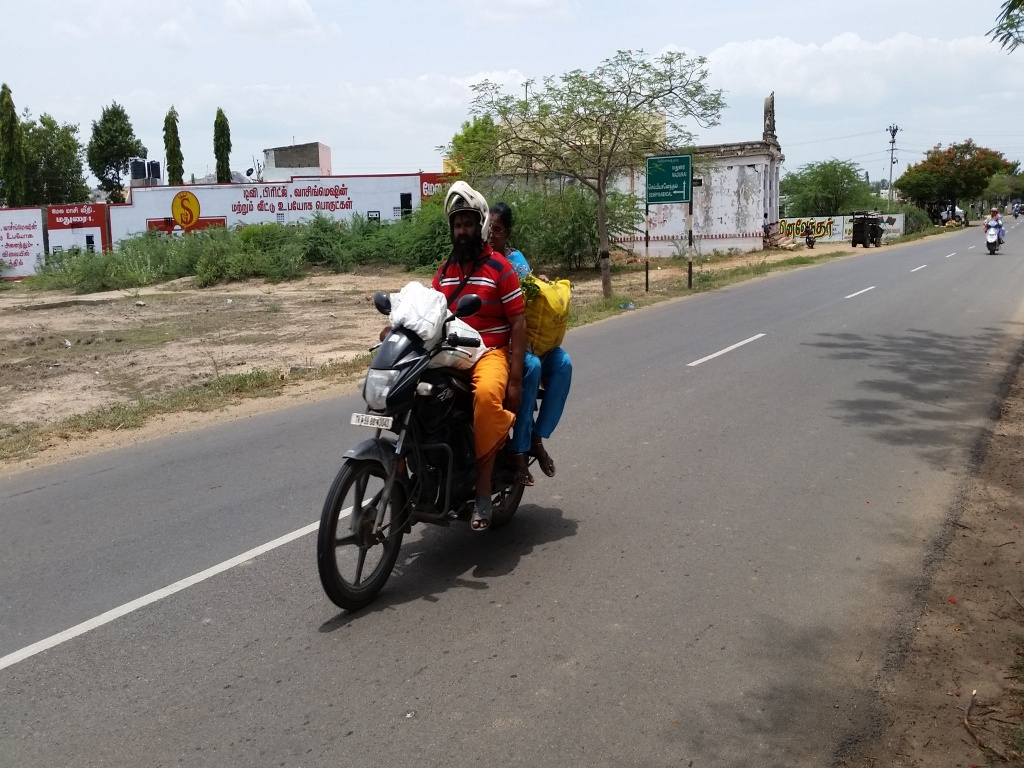biker: (295, 142, 632, 639)
helmet: (439, 171, 491, 264)
nohelmet: (486, 192, 520, 256)
